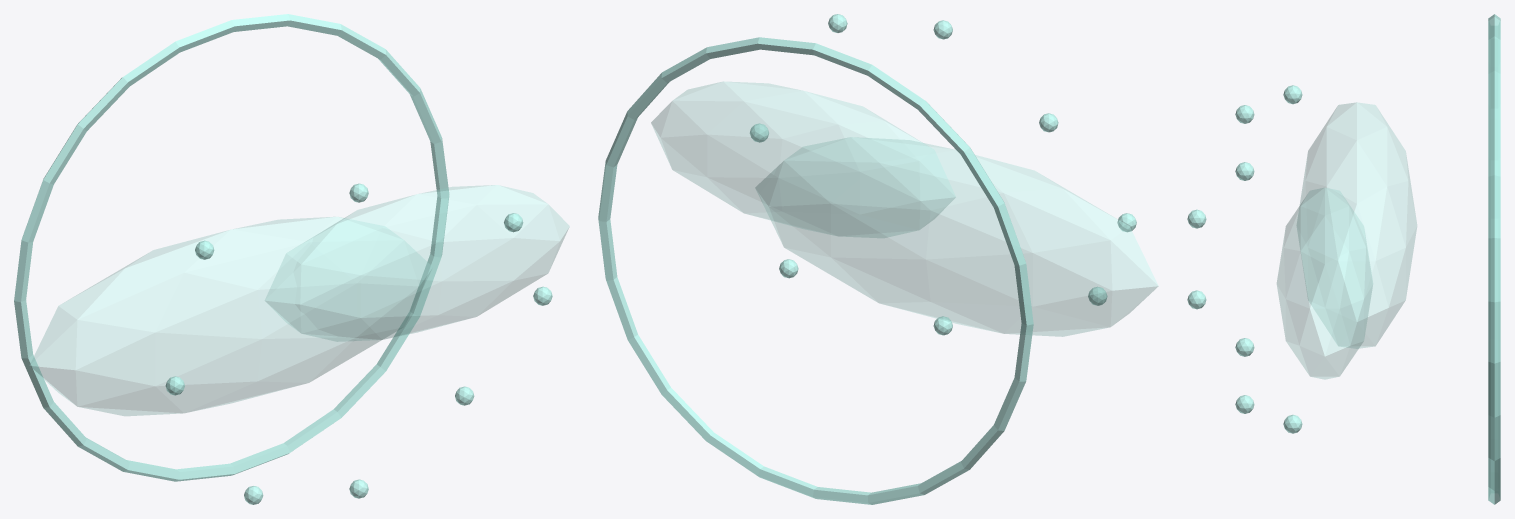
The model's file is 04_atmosphere.glb.
3 renders of one model, left to right at view 1: azimuth 30°, elevation 25°; view 2: azimuth 150°, elevation 25°; view 3: azimuth 270°, elevation 25°, orthographic. The views are drawn at different scales.
Parts seen in each view (by area): view 1: cloud_or_nebula_a, cloud_or_nebula_b, horizon_ring; view 2: cloud_or_nebula_a, cloud_or_nebula_b, horizon_ring; view 3: cloud_or_nebula_a, cloud_or_nebula_b, horizon_ring.
Boxes of the visible parts, x1,y1,x2,y2 form: cloud_or_nebula_a: (29,217,432,415); cloud_or_nebula_b: (265,185,569,341); horizon_ring: (14,14,449,481); cloud_or_nebula_a: (755,137,1158,336); cloud_or_nebula_b: (651,81,955,237); horizon_ring: (598,37,1033,504); cloud_or_nebula_a: (1297,102,1416,348); cloud_or_nebula_b: (1277,188,1372,379); horizon_ring: (1488,14,1500,504).
Bounding box in the file's own units: 1.85 × 1.54 × 0.979.
